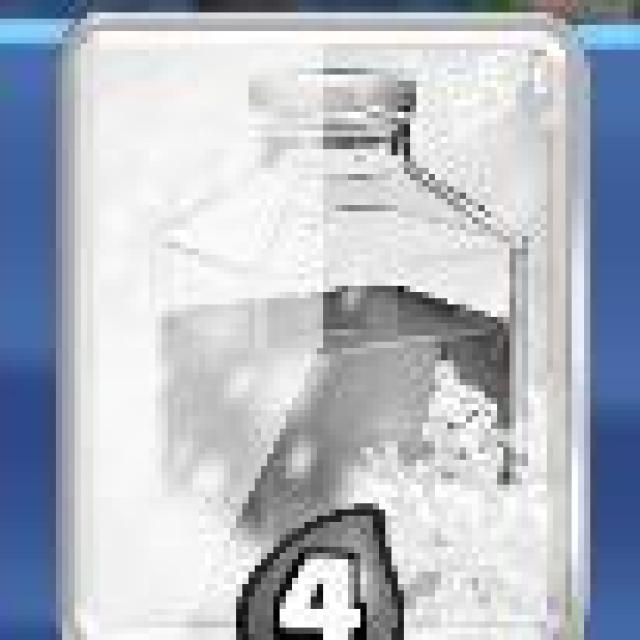Freeze: (58, 8, 591, 640)
